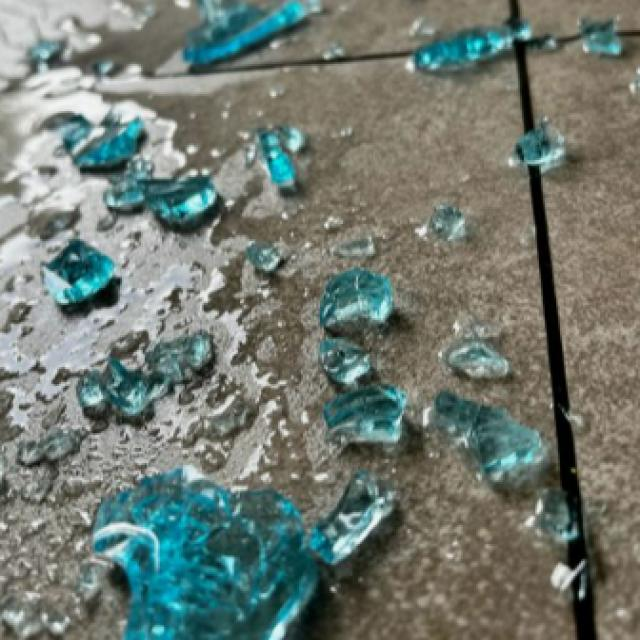PecahanKaca: (86, 461, 396, 638), (316, 265, 546, 480), (55, 109, 303, 305), (323, 269, 398, 327)
